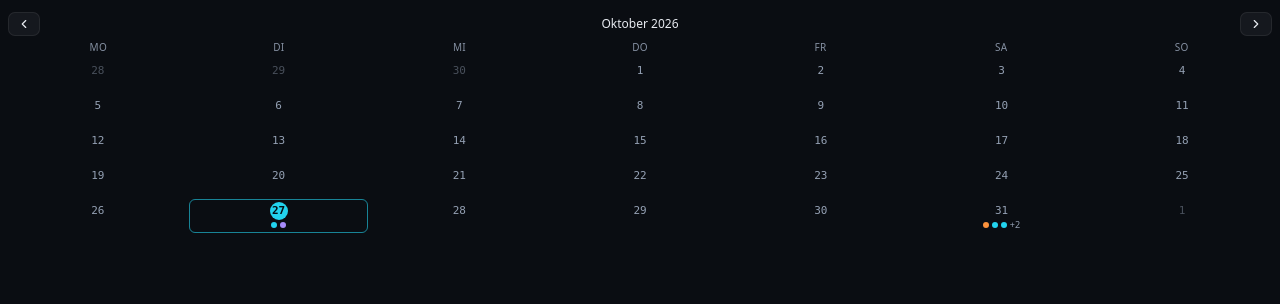
Scenario: the month › says so when a picked day is empty
This screenshot has width=1280, height=304.
Click the 2nd button "29". click: (640, 216)
box: [550,198,730,232]
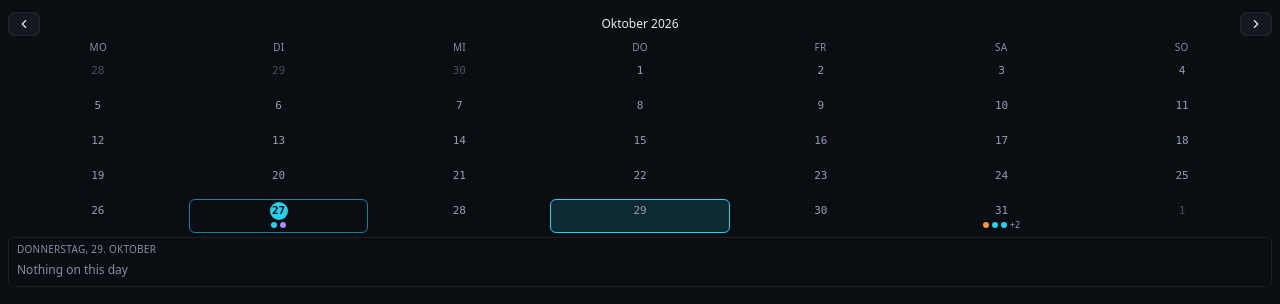
Expected: the element with test id "calendar-picked" shows "Nothing on this day", [17,261,128,278]
